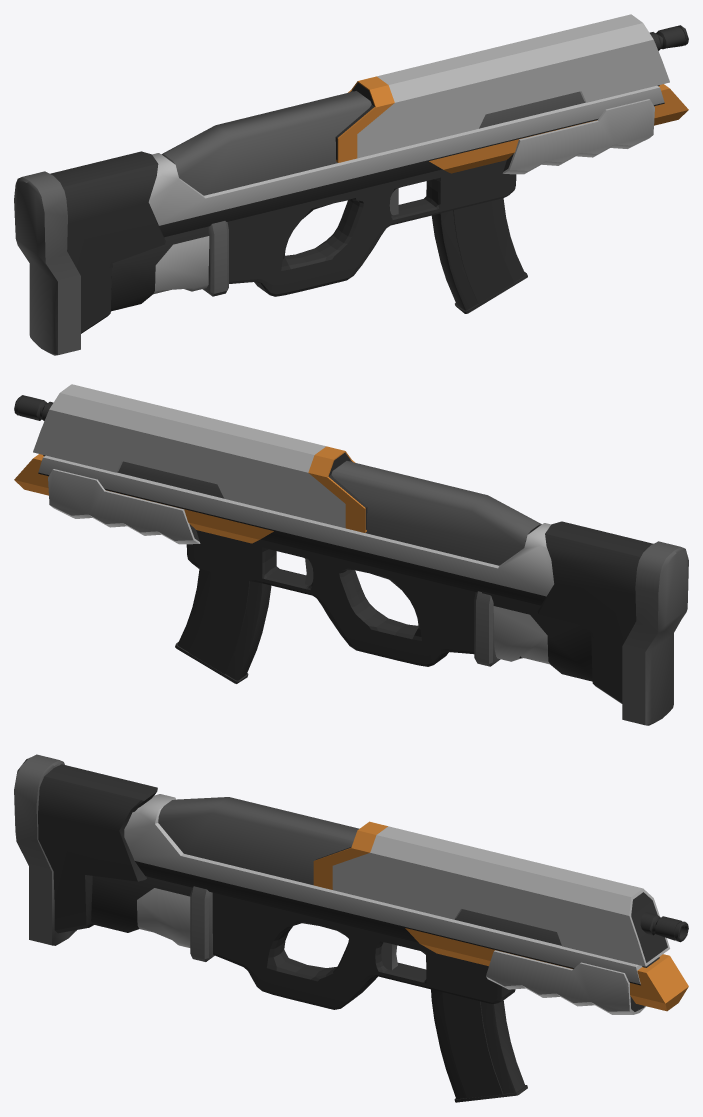
The model's file is g_heavy.glb.
3 views of the same model, one above another, from view 1: azimuth 30°, elevation 25°; view 2: azimuth 150°, elevation 25°; view 3: azimuth 330°, elevation 25° (orthographic).
Visible parts, largest first — view 1: AR_4, Magazine; view 2: AR_4, Magazine; view 3: AR_4, Magazine.
Part boxes in pixels (x1=…): AR_4: x1=14, y1=14, x2=688, y2=355; Magazine: x1=431, y1=198, x2=527, y2=313; AR_4: x1=14, y1=384, x2=688, y2=725; Magazine: x1=175, y1=569, x2=271, y2=683; AR_4: x1=14, y1=754, x2=688, y2=1014; Magazine: x1=431, y1=989, x2=527, y2=1102.
Size of the model in its own units: 1.79 by 0.6476 by 0.1462.
